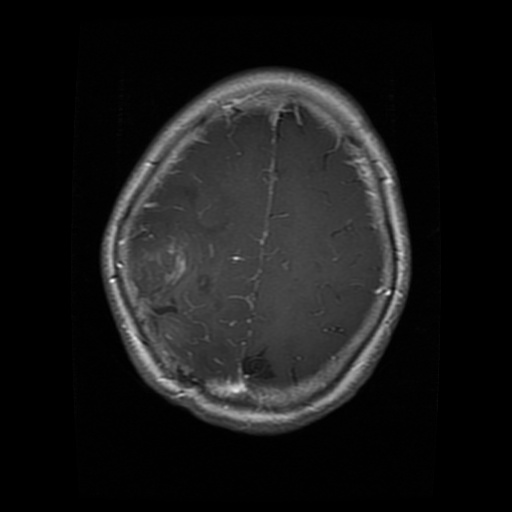glioma: (131, 216, 204, 316)
